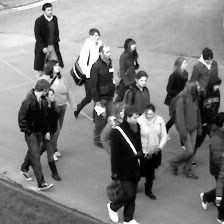person: (108, 106, 143, 224), (18, 78, 52, 191), (167, 79, 200, 180), (136, 104, 168, 203), (71, 27, 103, 121), (99, 102, 128, 205), (199, 112, 224, 224), (164, 56, 192, 151), (41, 59, 67, 161), (89, 43, 113, 148), (33, 2, 65, 78), (200, 76, 224, 172), (43, 88, 61, 182), (122, 71, 153, 120), (117, 36, 138, 103), (191, 47, 219, 93)
